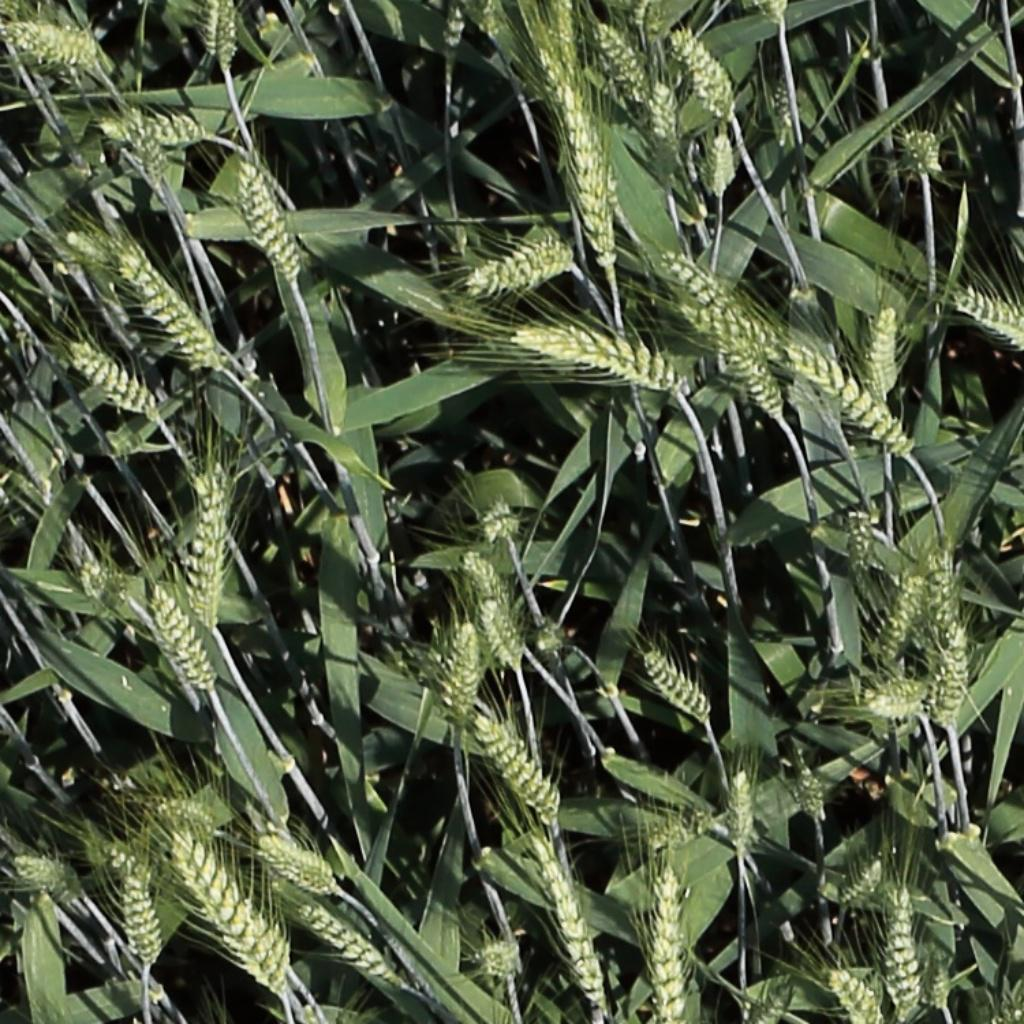0-0: (529, 42, 633, 261), (166, 824, 292, 1000), (107, 240, 239, 382), (527, 829, 624, 1019), (508, 324, 703, 405), (640, 288, 818, 374), (793, 345, 924, 459), (475, 714, 563, 823), (456, 231, 578, 306), (295, 904, 397, 988), (234, 159, 303, 281), (0, 14, 120, 82), (147, 584, 218, 693), (257, 830, 355, 902), (190, 457, 231, 629), (669, 23, 740, 120), (69, 341, 158, 415), (872, 556, 928, 668), (45, 214, 131, 286), (650, 867, 689, 1024), (728, 342, 793, 435), (215, 927, 290, 1007), (663, 247, 746, 318), (461, 547, 529, 632), (643, 647, 715, 726), (947, 279, 1024, 352), (595, 20, 656, 109), (446, 927, 529, 984), (931, 620, 974, 730), (93, 109, 209, 148), (888, 884, 921, 1019), (854, 672, 936, 724), (930, 553, 971, 649), (115, 847, 151, 955), (68, 551, 129, 611), (124, 106, 167, 191), (866, 308, 904, 404), (442, 621, 474, 734), (480, 595, 525, 675), (827, 963, 886, 1022), (652, 75, 682, 177), (469, 495, 528, 546), (12, 858, 80, 902), (841, 857, 892, 914), (156, 794, 227, 834), (199, 0, 238, 69), (749, 974, 797, 1024), (731, 767, 756, 862), (902, 122, 944, 178), (553, 0, 583, 77), (771, 57, 802, 128), (797, 763, 830, 827), (709, 125, 735, 199), (931, 947, 955, 1017), (441, 0, 469, 58), (746, 0, 789, 28), (0, 0, 30, 27)
